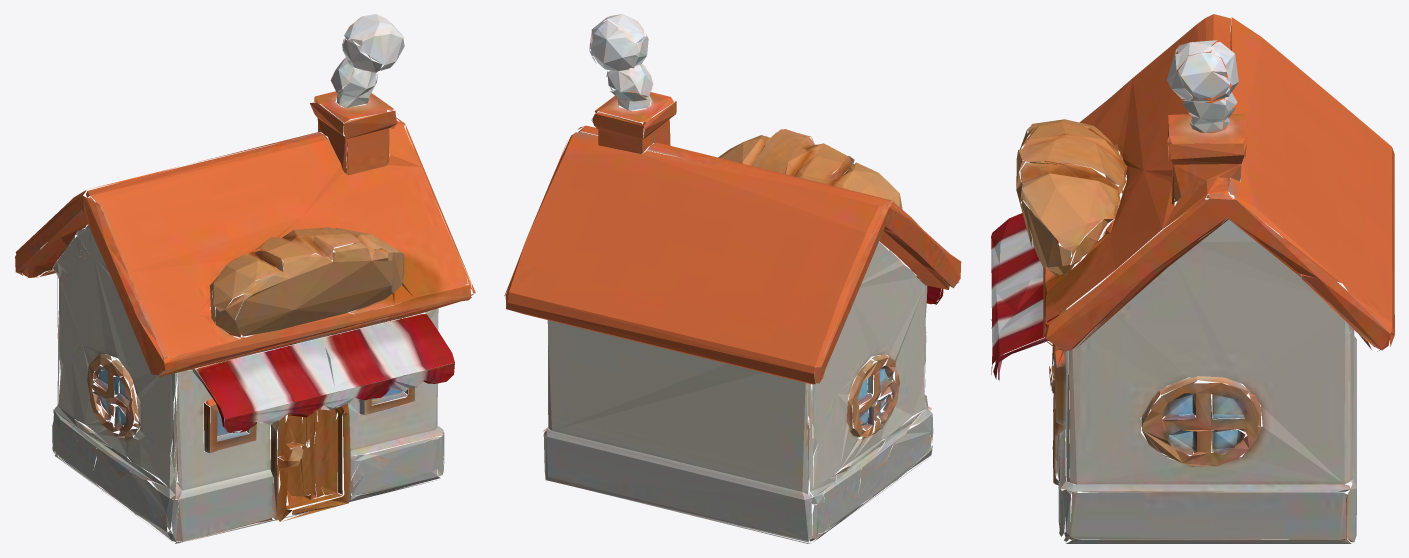
Rendered from toy-bakery.glb.
3 views of the same model, side by side, from view 1: azimuth 30°, elevation 25°; view 2: azimuth 150°, elevation 25°; view 3: azimuth 270°, elevation 25° (orthographic). The views are drawn at different scales.
Parts seen in each view (by area): view 1: tmpsmssd1gh.ply; view 2: tmpsmssd1gh.ply; view 3: tmpsmssd1gh.ply.
Boxes of the visible parts, x1,y1,x2,y2 form: tmpsmssd1gh.ply: (15, 14, 475, 543); tmpsmssd1gh.ply: (504, 14, 961, 543); tmpsmssd1gh.ply: (990, 14, 1394, 543).
Bounding box in the file's own units: 0.7883 × 1 × 0.7343.
1 material, 1 textured.
